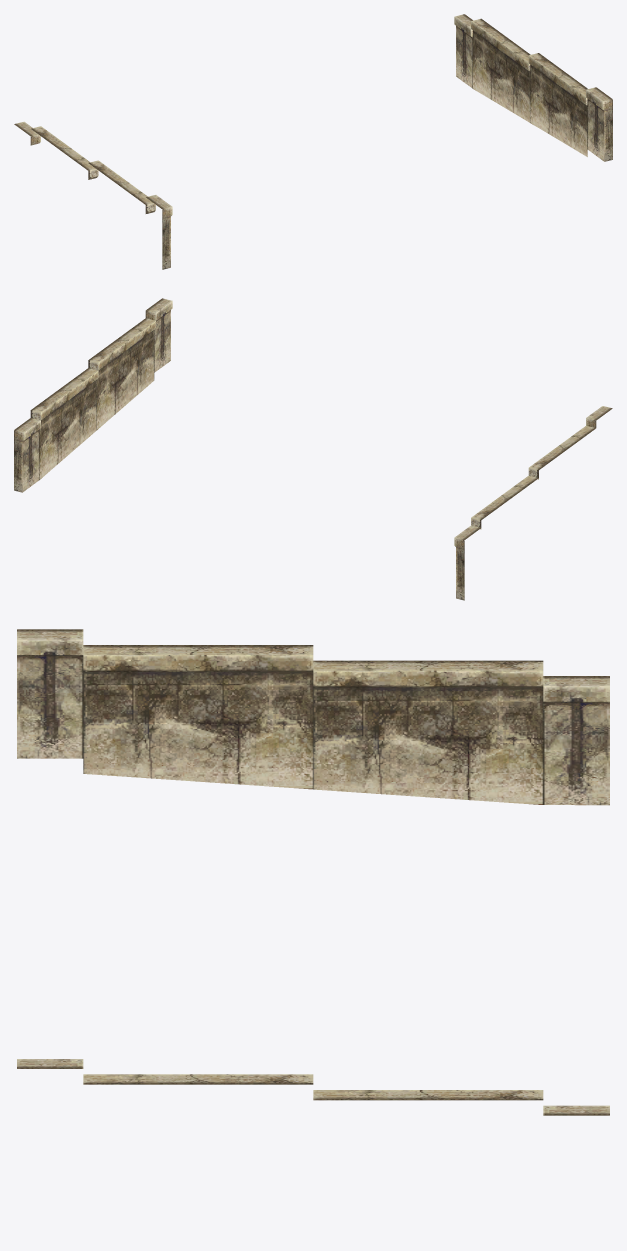
The model's file is OZ_20_wv_T04rail01A.glb.
The picture shows the model from 3 angles, top to bottom: view 1: azimuth 30°, elevation 25°; view 2: azimuth 150°, elevation 25°; view 3: azimuth 270°, elevation 25°; orthographic projection. The views are drawn at different scales.
Parts seen in each view (by area): view 1: OM_20_wv_T04rail01A; view 2: OM_20_wv_T04rail01A; view 3: OM_20_wv_T04rail01A.
Boxes of the visible parts, left/top/right/bottom form: OM_20_wv_T04rail01A: left=14, top=14, right=612, bottom=269; OM_20_wv_T04rail01A: left=14, top=298, right=612, bottom=600; OM_20_wv_T04rail01A: left=17, top=629, right=609, bottom=1115.
Size of the model in its own units: 17.89 by 3.18 by 10.19.
Materials: 1 (1 with a texture image).
